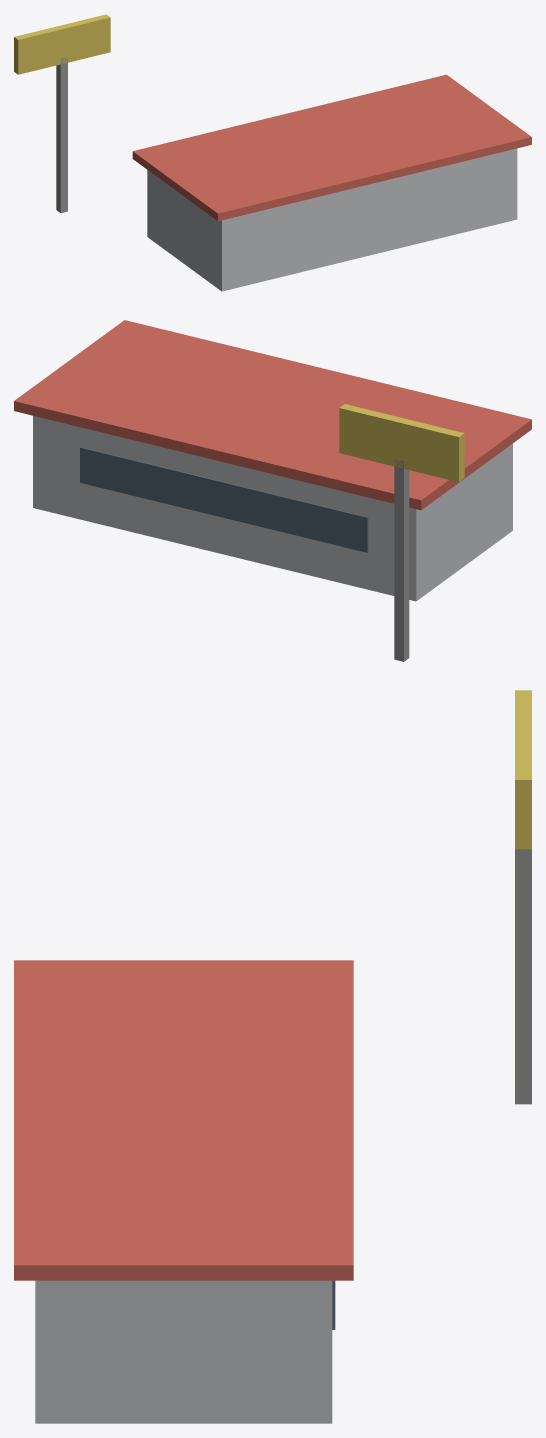
The model's file is diner.glb.
3 views of the same model, one above another, from view 1: azimuth 30°, elevation 25°; view 2: azimuth 150°, elevation 25°; view 3: azimuth 270°, elevation 25° (orthographic). The views are drawn at different scales.
Size of the model in its own units: 21 by 9.5 by 12.2.
